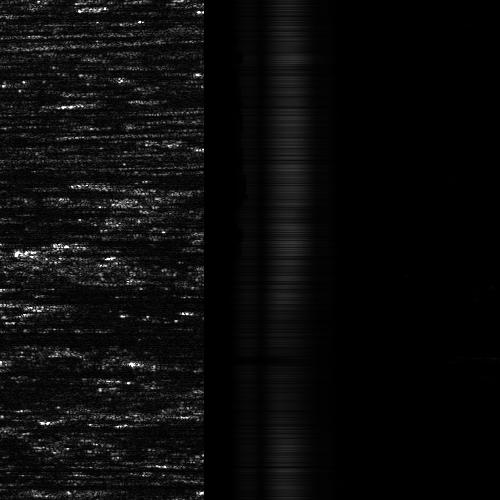rock: (0, 419, 59, 432), (8, 248, 49, 255), (0, 285, 28, 290)
shadow: (2, 419, 199, 432), (0, 63, 207, 72), (0, 3, 71, 20), (0, 360, 63, 379), (29, 248, 124, 255), (2, 285, 100, 290)
